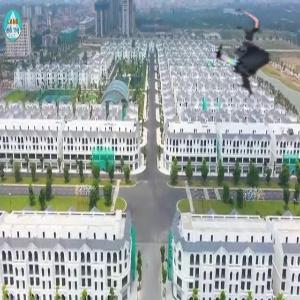drone: (200, 10, 289, 99)
